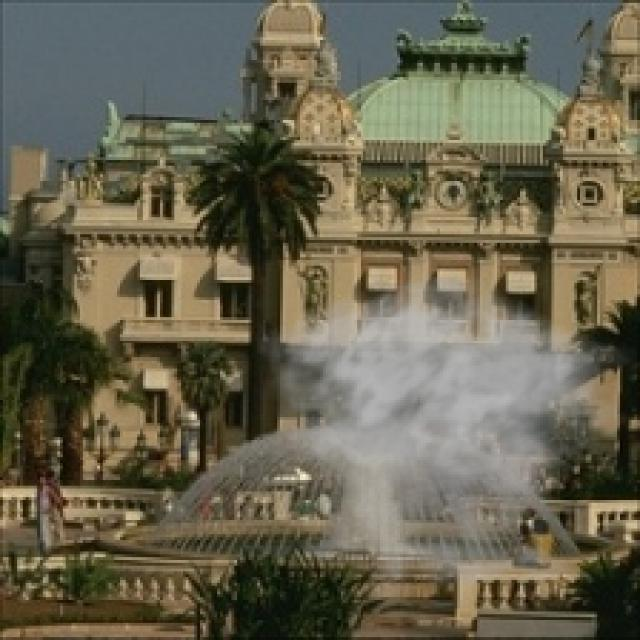Smoke: (257, 274, 637, 617)
